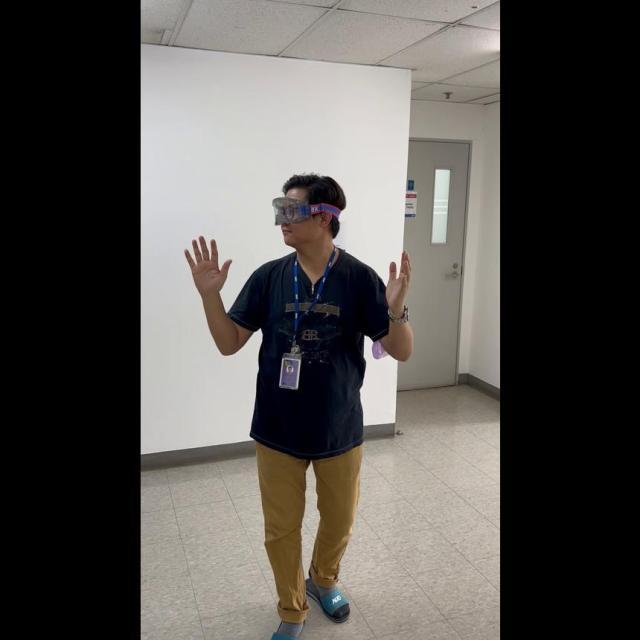bare_hand: (182, 231, 232, 295), (383, 246, 412, 319)
